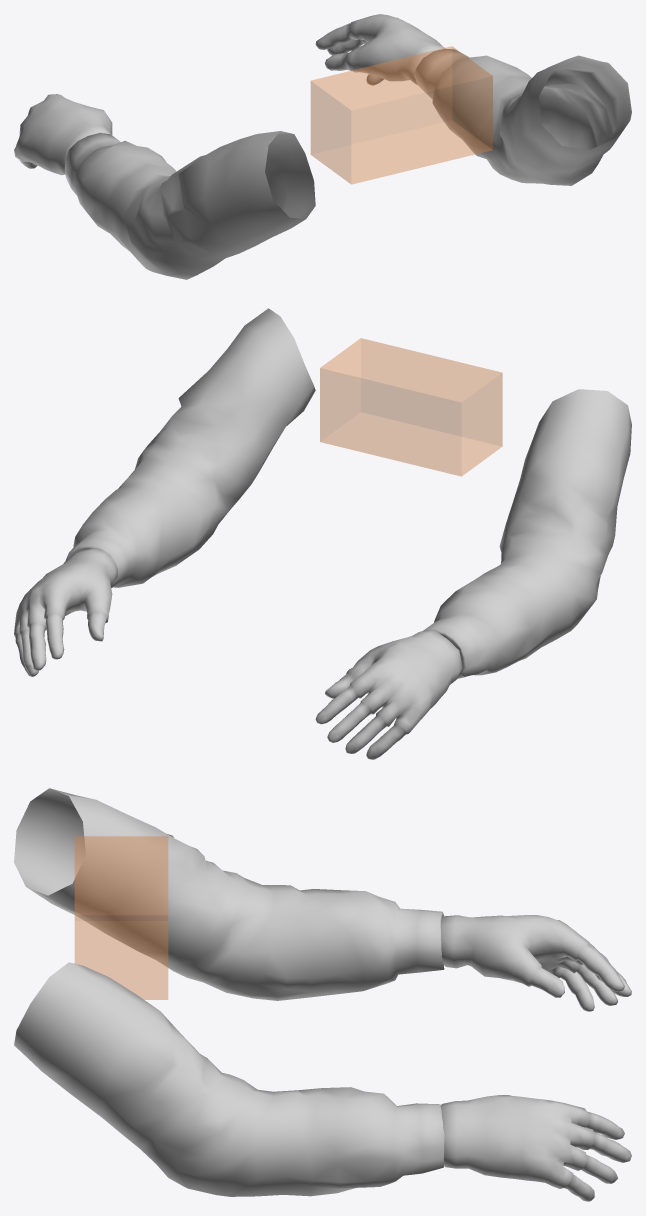
File: armviewmodel.obj
3 views of the same model, one above another, from view 1: azimuth 30°, elevation 25°; view 2: azimuth 150°, elevation 25°; view 3: azimuth 270°, elevation 25° (orthographic). The views are drawn at different scales.
Parts seen in each view (by area): view 1: Rightarm1, Leftarm1, Humanoidrootpart1; view 2: Rightarm1, Leftarm1, Humanoidrootpart1; view 3: Leftarm1, Rightarm1, Humanoidrootpart1.
Part boxes in pixels (bbox=[...]): Rightarm1: bbox=[14, 94, 315, 279]; Leftarm1: bbox=[315, 14, 631, 185]; Humanoidrootpart1: bbox=[311, 46, 492, 184]; Rightarm1: bbox=[315, 389, 631, 759]; Leftarm1: bbox=[14, 308, 315, 676]; Humanoidrootpart1: bbox=[320, 338, 502, 476]; Leftarm1: bbox=[14, 962, 631, 1201]; Rightarm1: bbox=[14, 788, 631, 1011]; Humanoidrootpart1: bbox=[75, 836, 167, 999].
Bounding box in the file's own units: 6.5 × 2.69 × 6.61.
